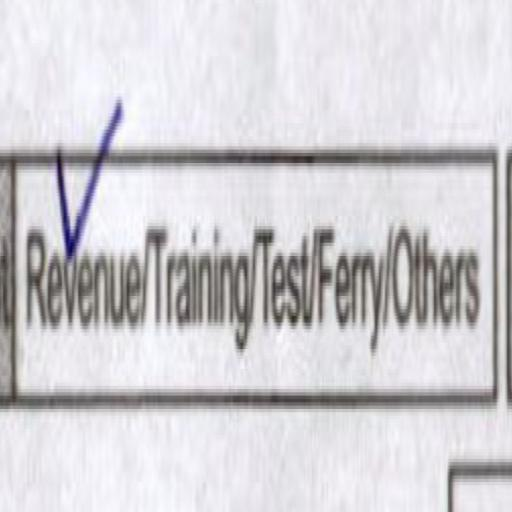check: (17, 108, 142, 420)
